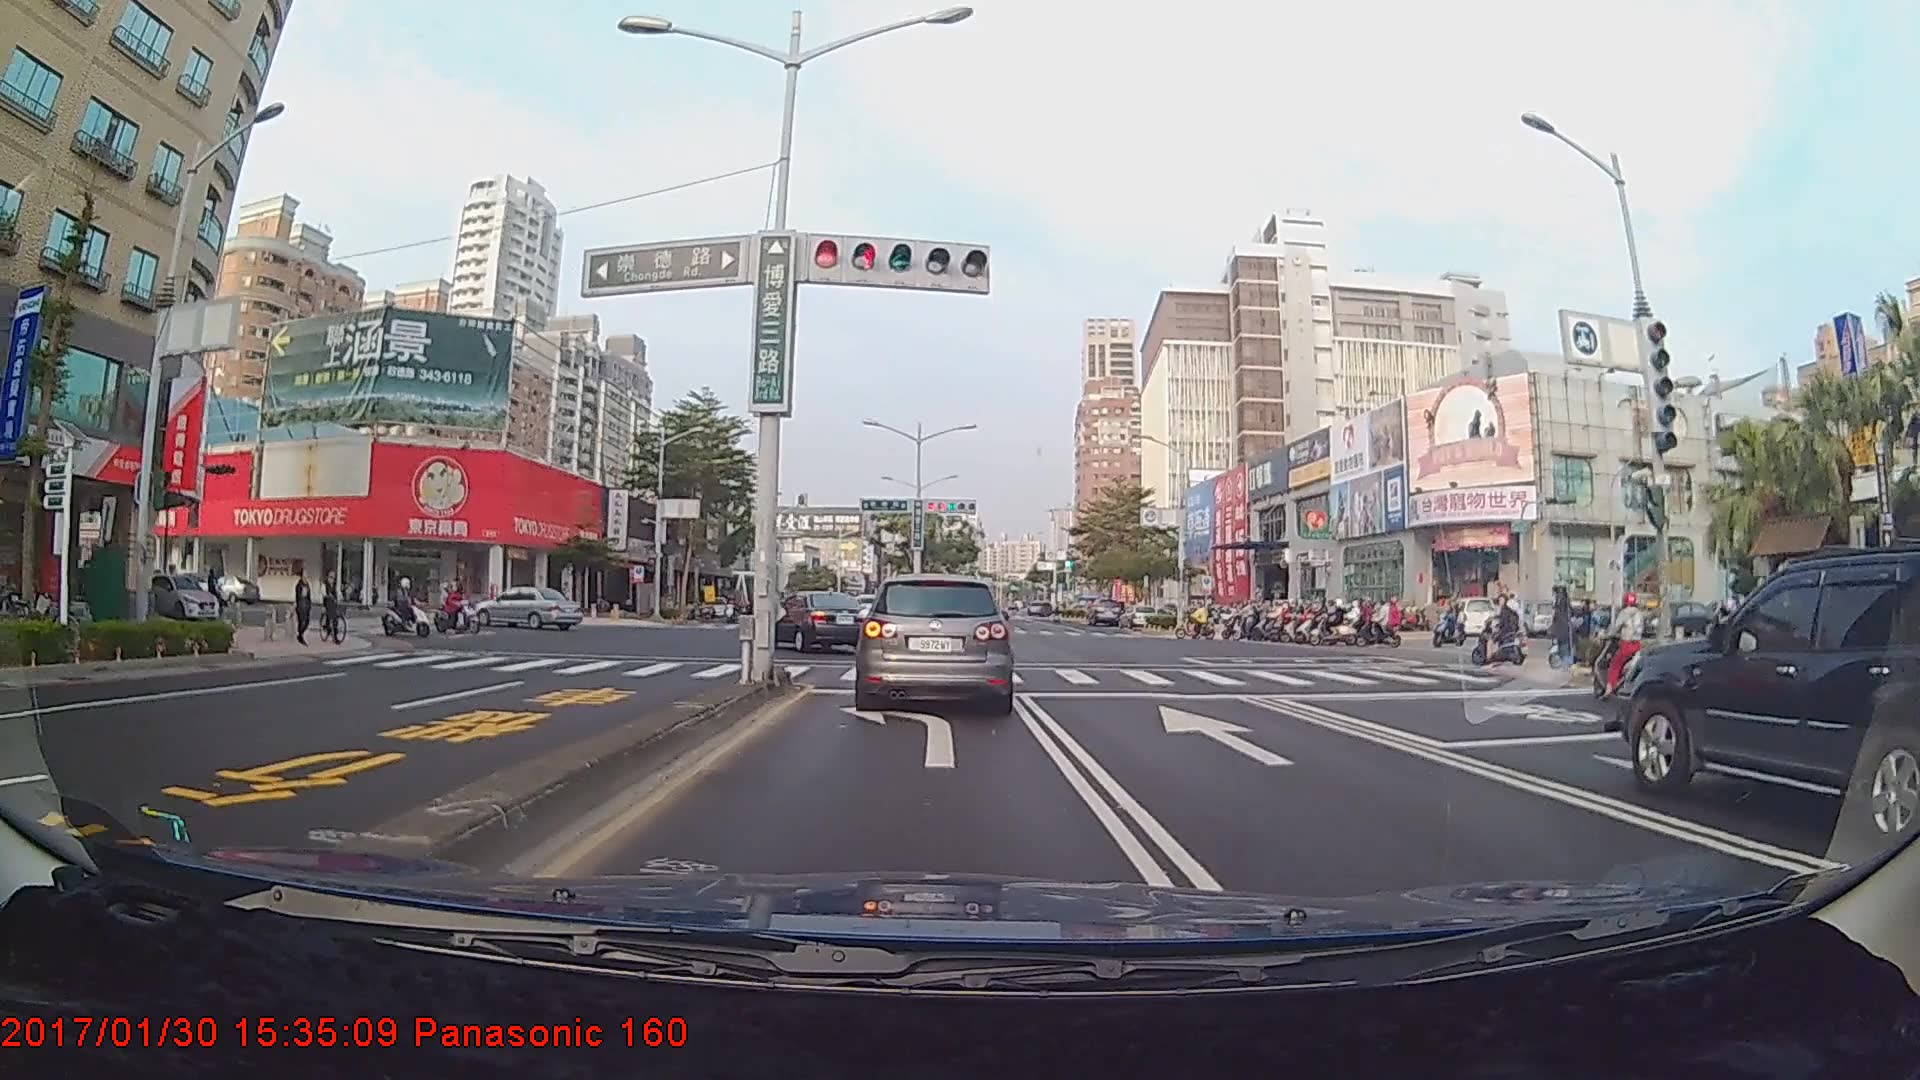pedestrian: (1550, 583, 1580, 681), (293, 565, 313, 651)
rider: (1586, 589, 1671, 715), (1543, 592, 1606, 675), (1467, 601, 1533, 667), (378, 578, 431, 644), (421, 578, 478, 636), (314, 566, 352, 645), (1362, 592, 1403, 651), (1316, 601, 1362, 648), (1178, 598, 1219, 639)
vehicle: (1613, 552, 1920, 851), (853, 571, 1016, 718), (767, 588, 871, 655), (473, 584, 582, 631), (1085, 595, 1124, 628)
